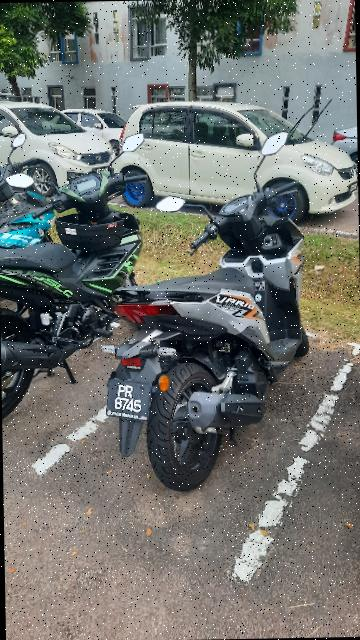License_Plate: (99, 380, 158, 427)
car: (114, 86, 359, 234), (1, 69, 119, 210)
motorcycle: (98, 130, 348, 495), (1, 126, 190, 417)
